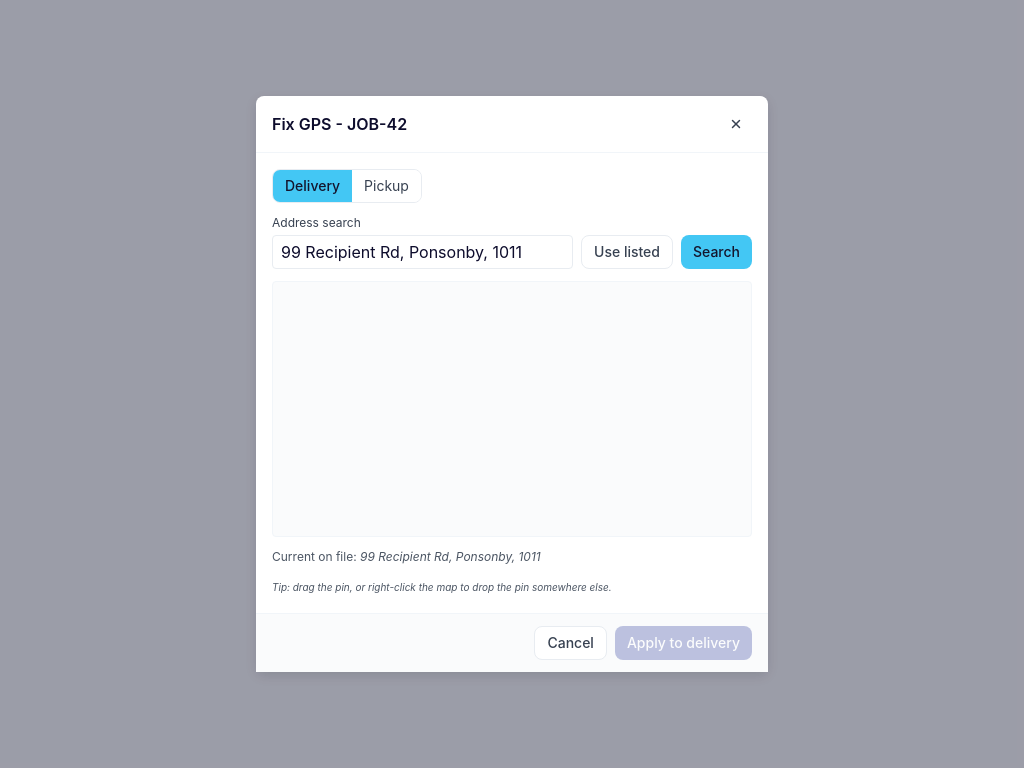
Test: FixGpsModal › forwardGeocode not-found path shows the error message
The width and height of the screenshot is (1024, 768).
Click the button "Search". click: (716, 252)
box: [681,235,752,269]
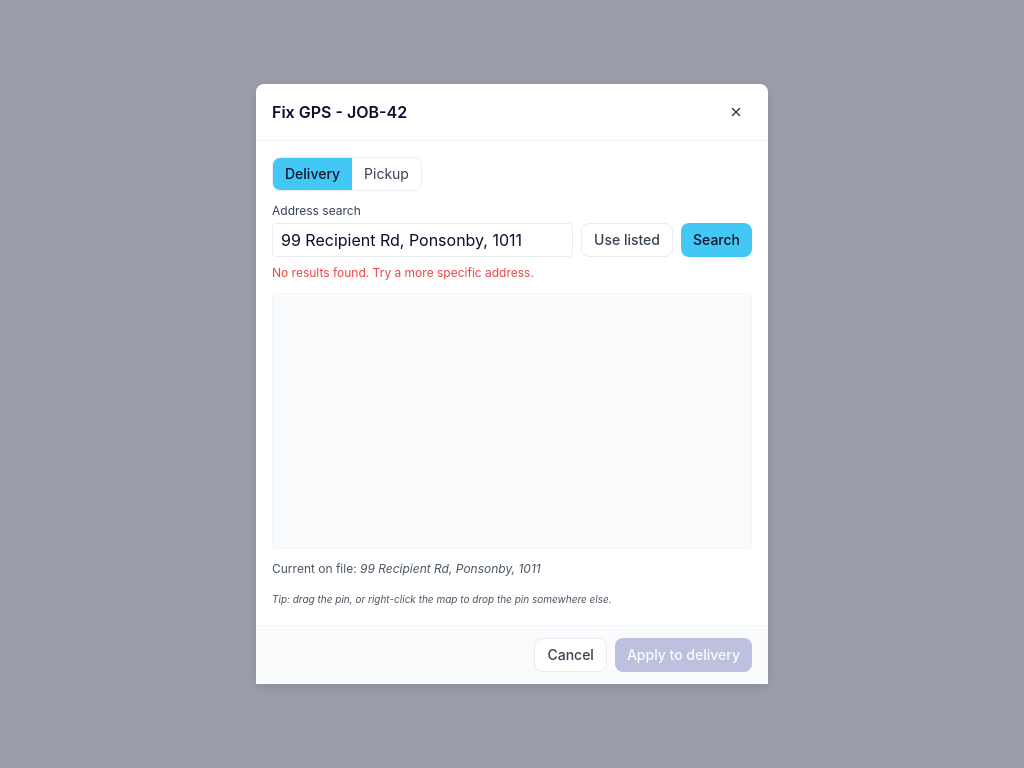
Result: the text "No results found. Try a more specific address." is shown at [272,265,534,280]
